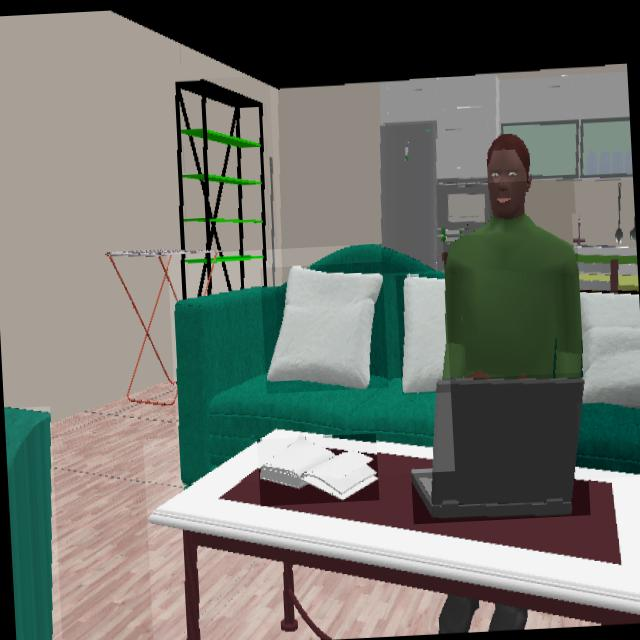book: (259, 439, 378, 502)
cabinet: (381, 64, 633, 180)
fridge: (380, 121, 440, 271)
laptop: (411, 380, 583, 518)
microwave: (438, 178, 488, 236)
person: (442, 136, 581, 383)
pillow: (266, 268, 383, 389), (582, 293, 640, 410), (402, 277, 445, 393)
shelf: (176, 79, 274, 297)
sink: (573, 215, 588, 247)
sofa: (173, 246, 445, 484), (4, 409, 53, 640), (580, 402, 640, 475)
table: (147, 433, 640, 640)
